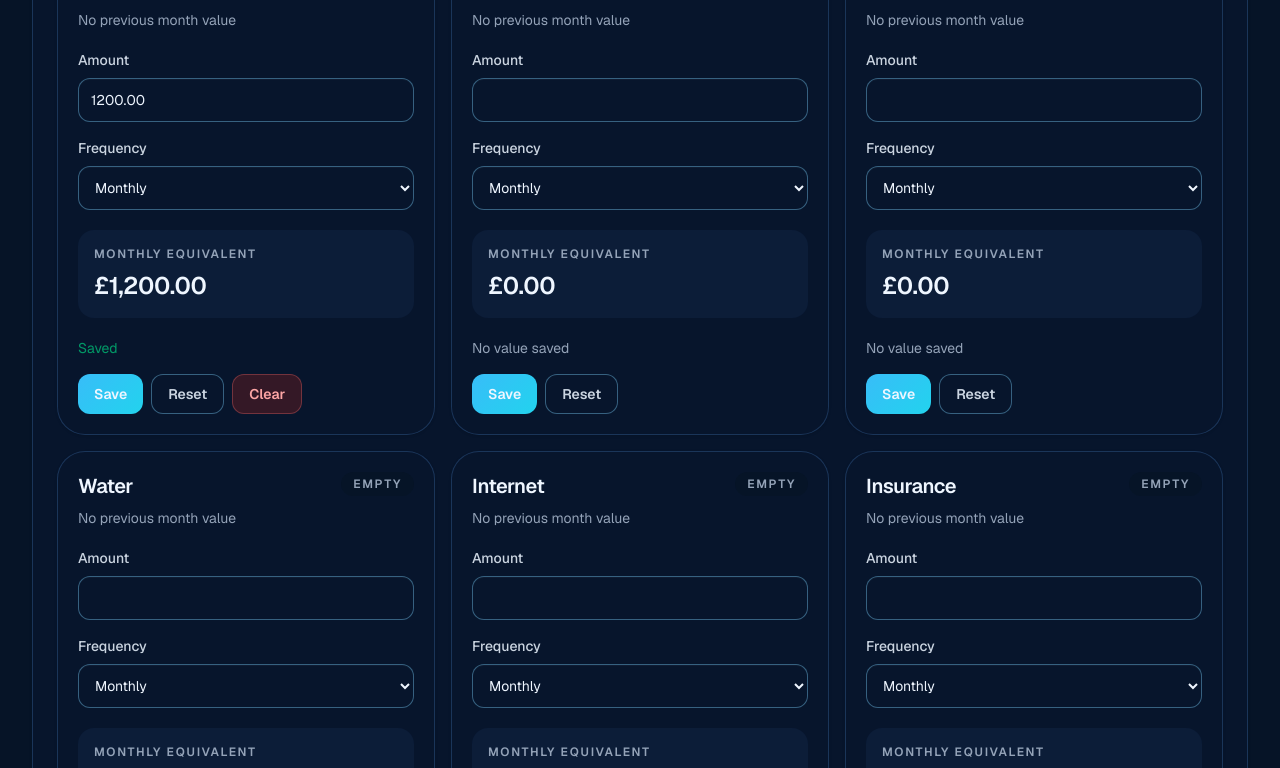
Scenario: [Component] housing view › should clear a stored housing expense from its card
(page scrolled)
Click the button "Clear" at (267, 394), box [232,374,302,414]
(page scrolled)
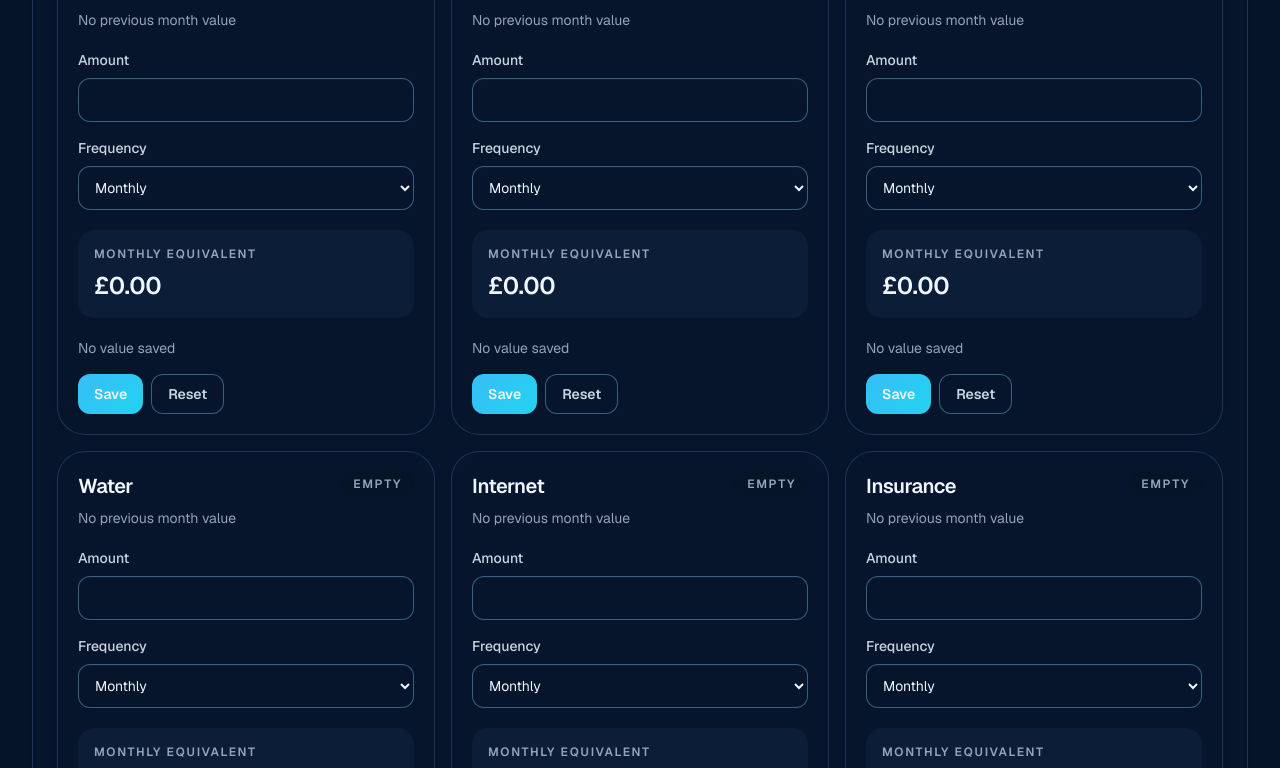
Expected: the 1st number field labelled "Amount" is shown, [78,78,414,122]
Now the 1st text "No value saved" is shown, box [78,339,175,357]
